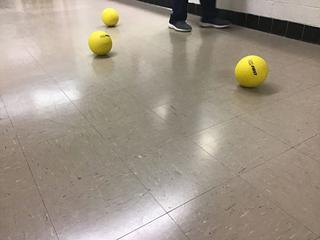power_cell: (234, 57, 269, 88), (86, 32, 113, 57), (100, 9, 120, 27)
